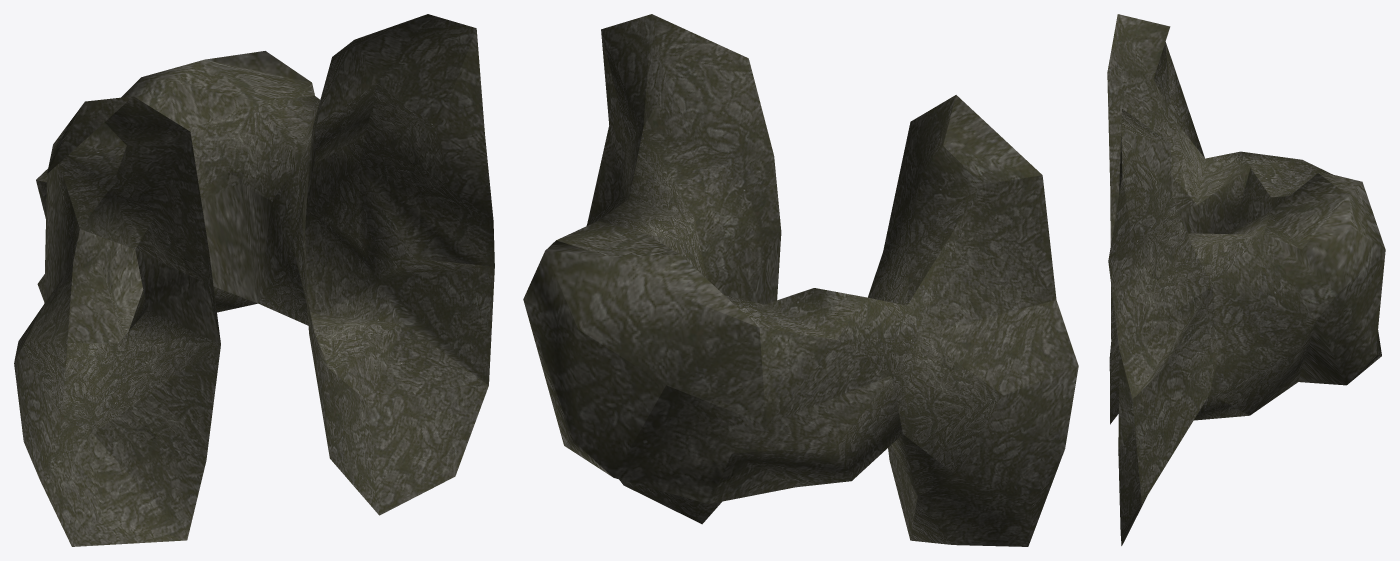
The model's file is gate2rock.FBX.
3 views of the same model, side by side, from view 1: azimuth 30°, elevation 25°; view 2: azimuth 150°, elevation 25°; view 3: azimuth 270°, elevation 25° (orthographic). The views are drawn at different scales.
Parts seen in each view (by area): view 1: TI_Cliff_01_d_LOD_03; view 2: TI_Cliff_01_d_LOD_03; view 3: TI_Cliff_01_d_LOD_03.
Part boxes in pixels (x1,y1,x2,y2): TI_Cliff_01_d_LOD_03: (14, 14, 494, 546); TI_Cliff_01_d_LOD_03: (523, 14, 1078, 546); TI_Cliff_01_d_LOD_03: (1107, 14, 1385, 545).
Bounding box in the file's own units: 14.3 × 13.65 × 8.17.
1 material, 1 textured.
